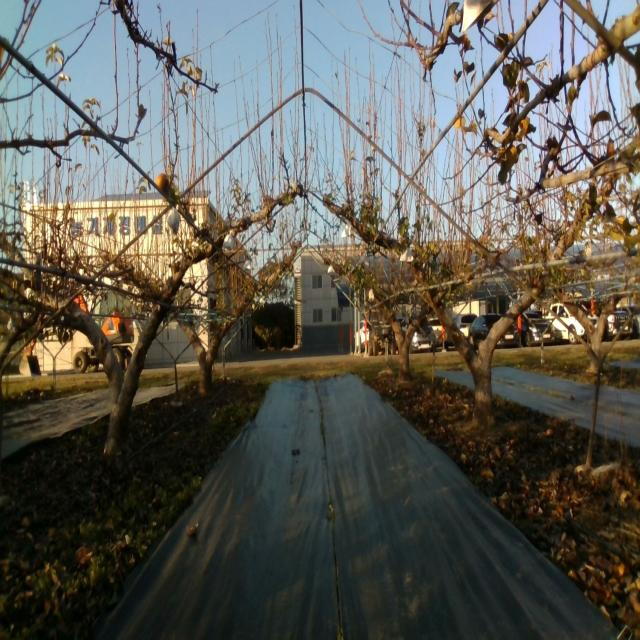pearbags: (166, 204, 181, 236), (222, 230, 235, 251), (399, 244, 414, 262)
